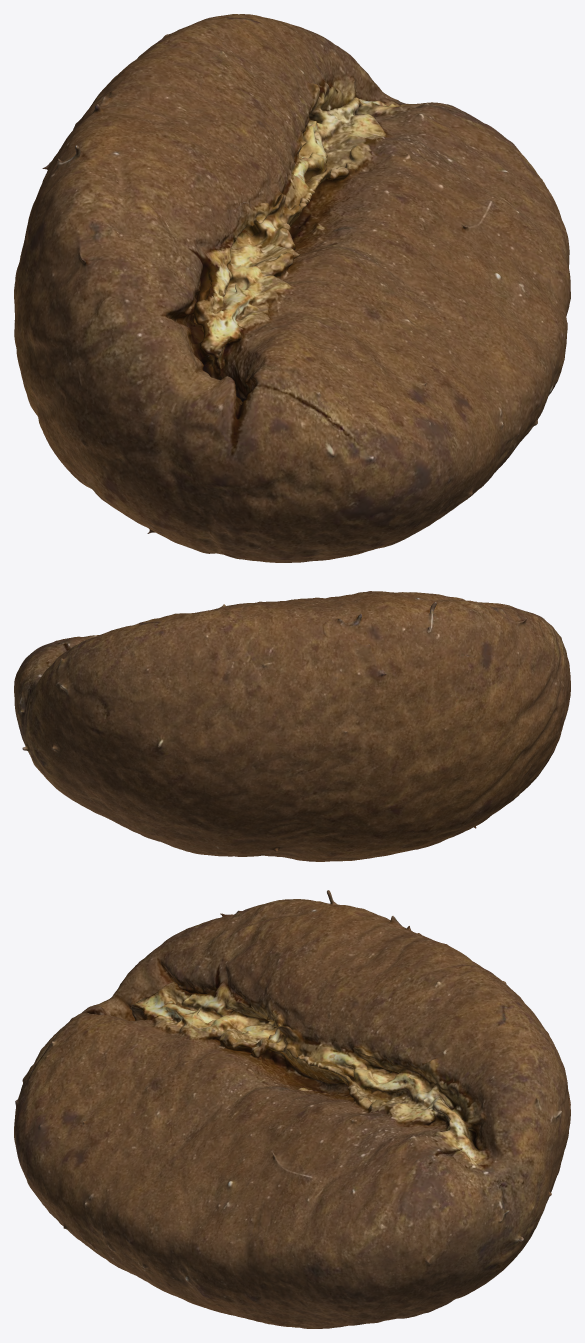
File: coffee_bean-transformed.glb
The picture shows the model from 3 angles, top to bottom: view 1: azimuth 30°, elevation 25°; view 2: azimuth 150°, elevation 25°; view 3: azimuth 270°, elevation 25°; orthographic projection. The views are drawn at different scales.
Parts seen in each view (by area): view 1: Object_2; view 2: Object_2; view 3: Object_2.
Boxes of the visible parts, x1=… form: Object_2: x1=14, y1=14, x2=570, y2=562; Object_2: x1=14, y1=591, x2=570, y2=861; Object_2: x1=14, y1=890, x2=570, y2=1328.
Bounding box in the file's own units: 3.68 × 2.31 × 3.64.
1 material, 1 textured.
